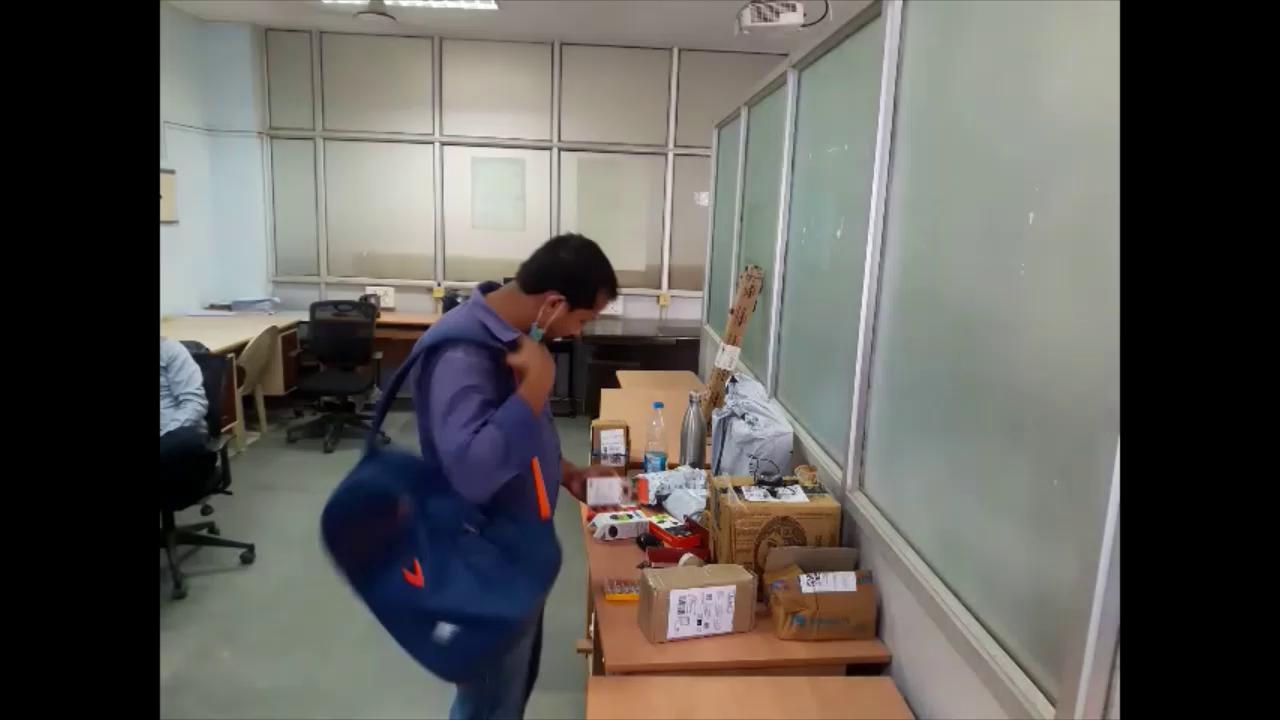Normal: (309, 214, 616, 720)
